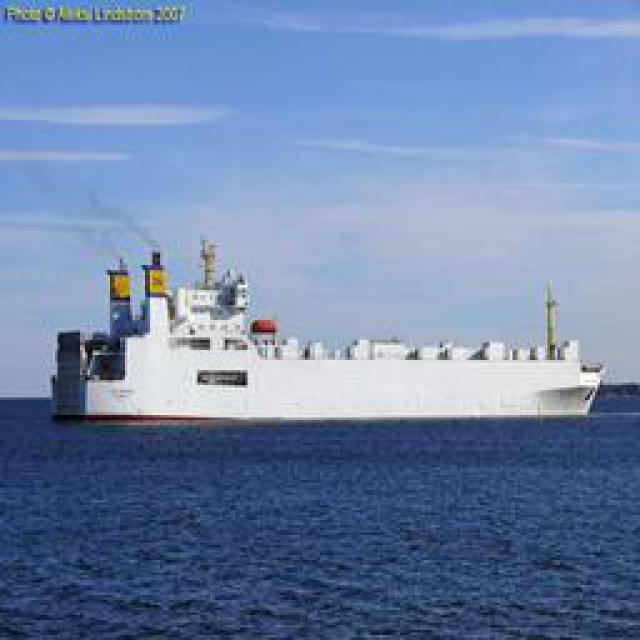Ship: (53, 244, 601, 427)
